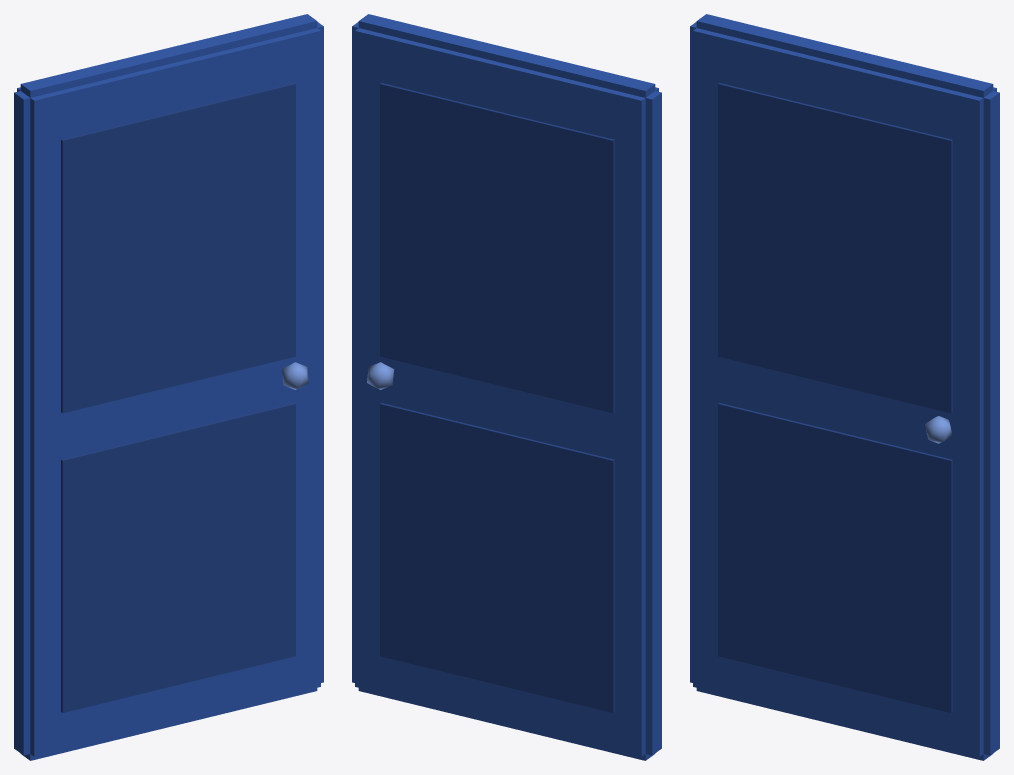
The model's file is mushroom_door_v0.glb.
3 views of the same model, side by side, from view 1: azimuth 30°, elevation 25°; view 2: azimuth 150°, elevation 25°; view 3: azimuth 330°, elevation 25° (orthographic).
Parts seen in each view (by area): view 1: mushroom_door_v0; view 2: mushroom_door_v0; view 3: mushroom_door_v0.
Boxes of the visible parts, bbox=[...] form: mushroom_door_v0: bbox=[14, 14, 323, 760]; mushroom_door_v0: bbox=[352, 14, 661, 760]; mushroom_door_v0: bbox=[690, 14, 999, 760].
Size of the model in its own units: 0.9 by 1.92 by 0.2381.
